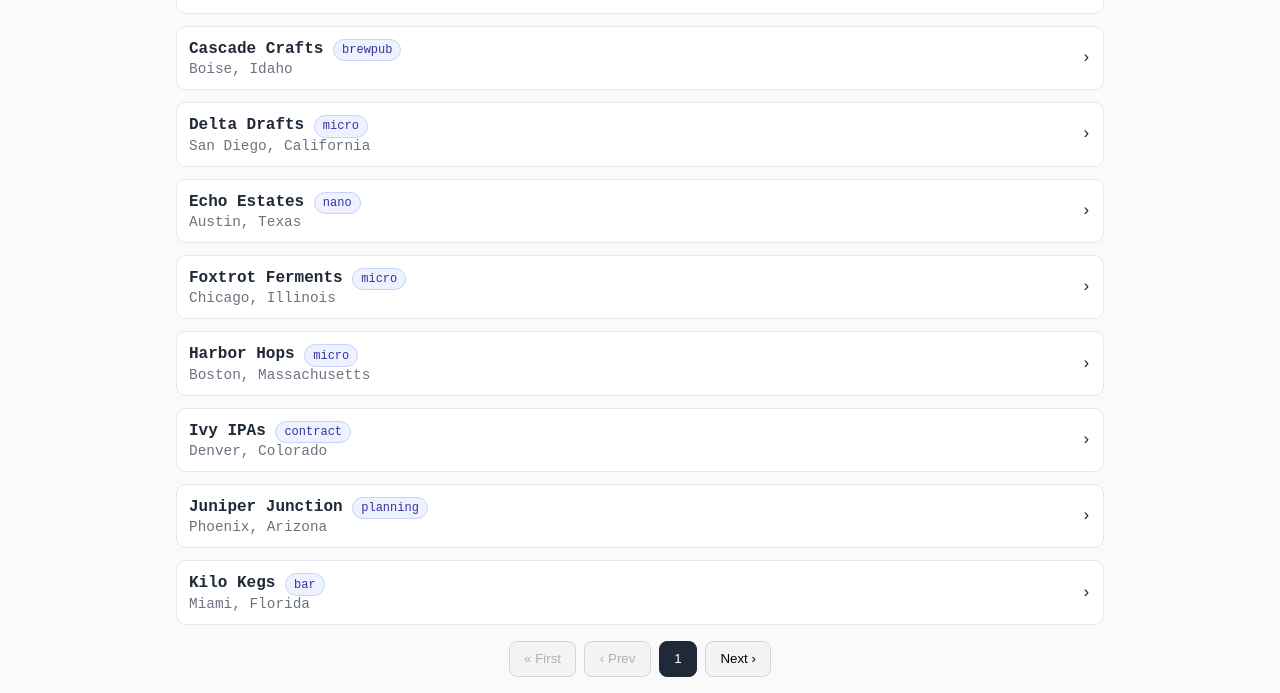
Scenario: Brewery Finder › navigates to the next page of results
This screenshot has width=1280, height=693.
(page scrolled)
expect the text "Next ›" is enabled: met
Click the button "Next ›".
click(738, 659)  # box [705, 641, 771, 677]
(page scrolled)
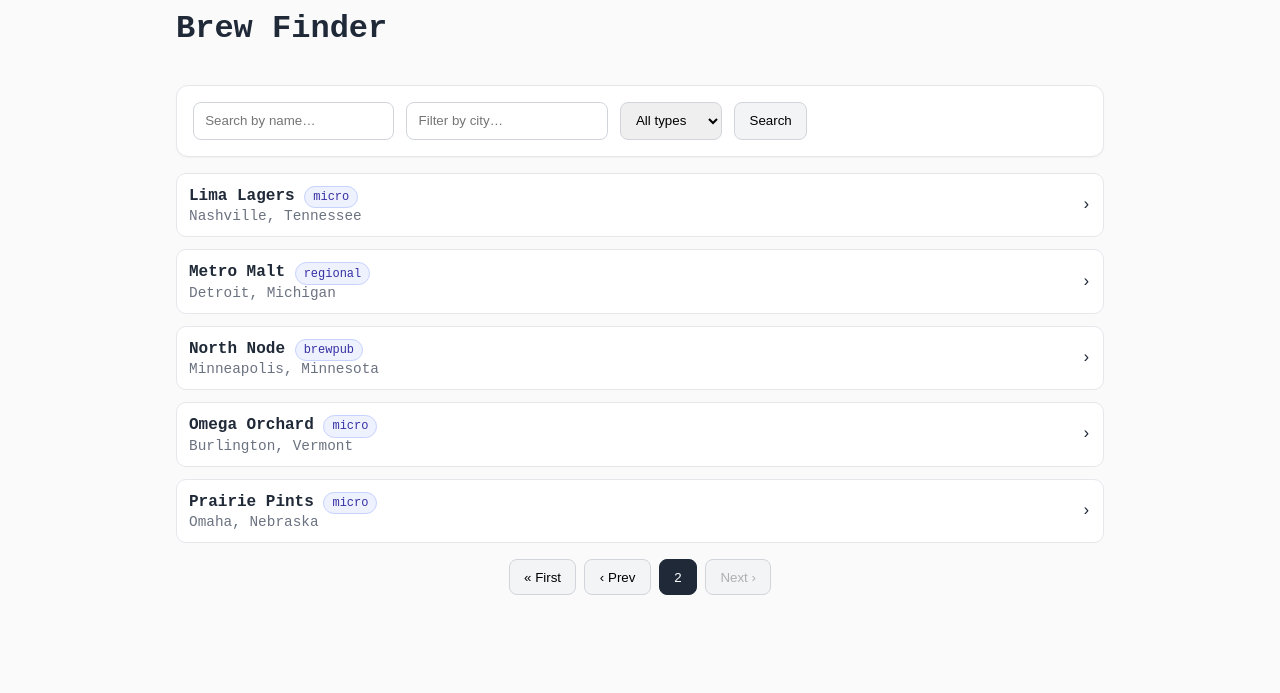
expect the text "‹ Prev" is enabled: met
expect the button "Lima Lagers micro Nashville, Tennessee ›" is shown: met, box [176, 173, 1104, 238]
